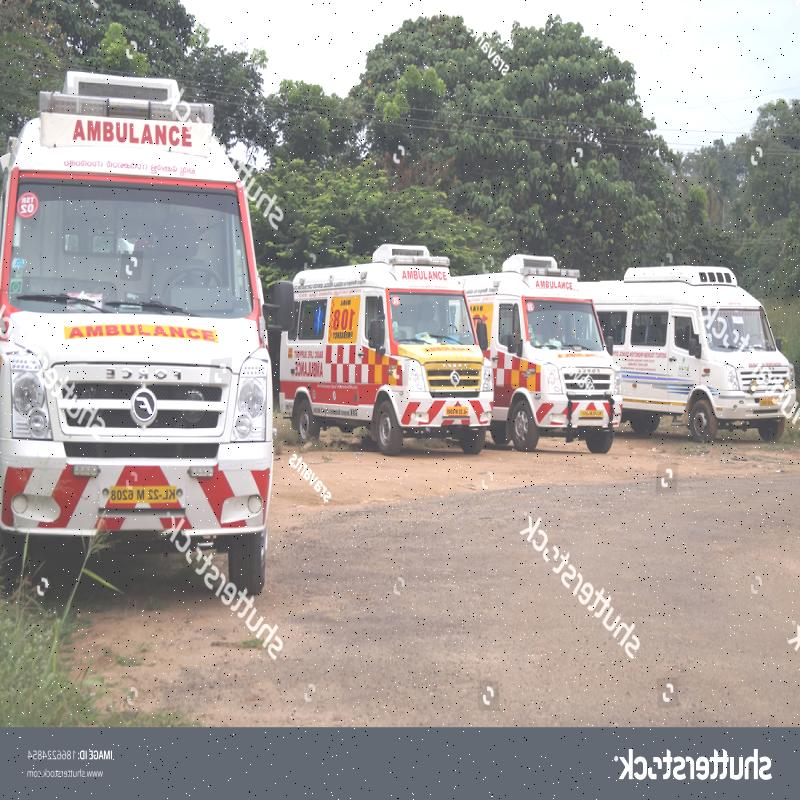AmbulanceSiren: (8, 56, 220, 128), (375, 251, 453, 277), (514, 264, 586, 283)
